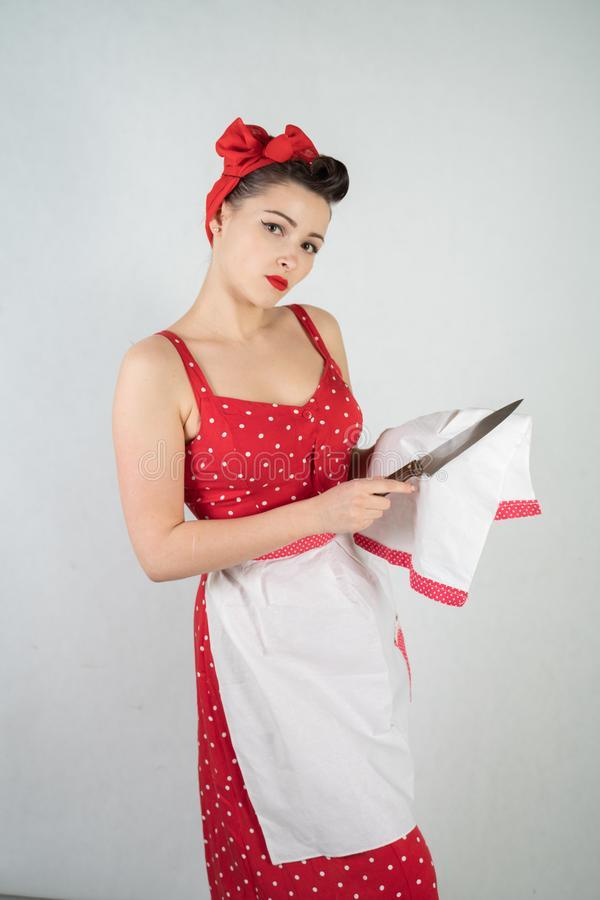criminal: (112, 114, 544, 900)
weapon: (368, 390, 530, 505)
